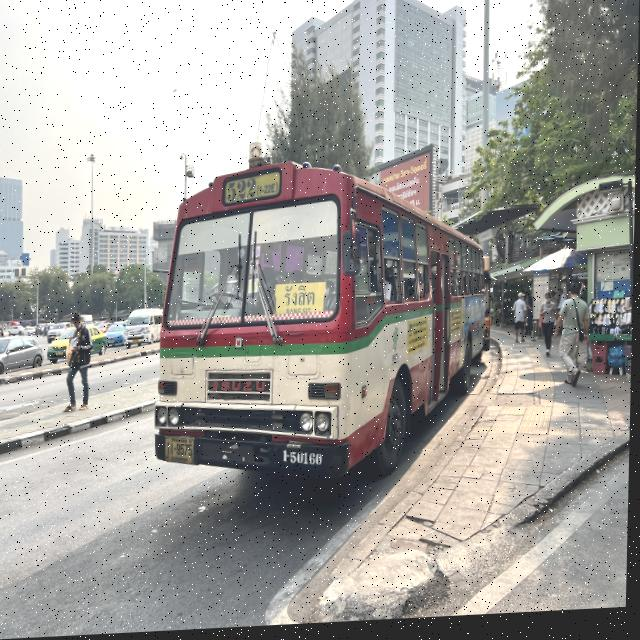BMTA-bus: (153, 156, 496, 496)
Bus-Line-Number: (225, 176, 282, 204)
Destination-Sign-Normal-Expressway: (277, 286, 327, 326)
